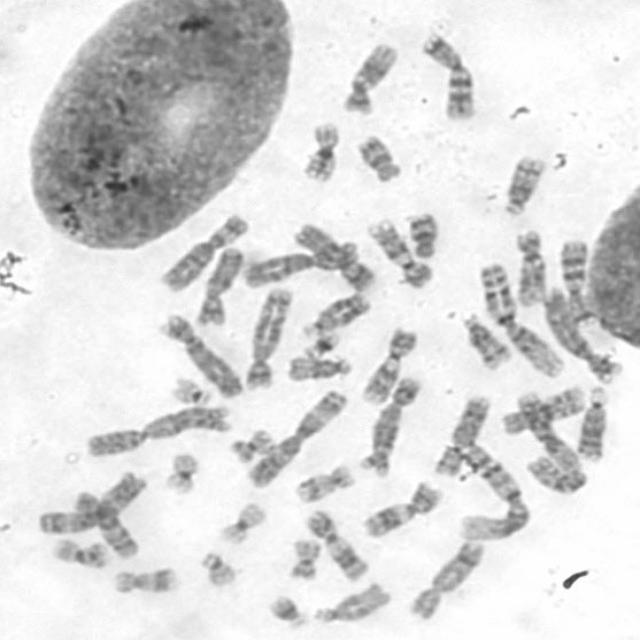A1: (476, 259, 566, 379), (451, 438, 533, 542)
A2: (80, 401, 234, 458), (512, 393, 586, 494)
A3: (242, 386, 350, 490), (35, 468, 147, 537)
B4: (156, 308, 246, 401), (539, 283, 624, 380)
B5: (358, 373, 424, 476), (241, 283, 294, 392)
C10: (70, 484, 141, 561), (497, 382, 588, 437)
C11: (300, 506, 372, 583), (358, 476, 446, 539)
C12: (338, 38, 400, 116), (508, 226, 548, 310)
C6: (156, 208, 250, 293), (239, 236, 360, 288)
C7: (416, 29, 478, 122), (556, 234, 593, 328)
C8: (405, 535, 487, 623), (430, 391, 493, 477)
C9: (363, 215, 434, 289), (358, 324, 420, 406)
D13: (296, 288, 372, 338), (572, 382, 612, 463)
D14: (458, 309, 515, 371), (499, 151, 548, 217)
D15: (309, 579, 393, 626), (282, 354, 352, 382)
E16: (296, 116, 342, 185), (48, 534, 109, 570)
E17: (290, 460, 356, 506), (109, 564, 179, 596)
E18: (353, 130, 403, 185), (404, 209, 442, 260)
F19: (215, 500, 268, 546), (161, 449, 200, 495)
F20: (226, 424, 278, 464), (285, 536, 322, 582)
G21: (264, 590, 309, 630), (299, 328, 342, 360)
G22: (196, 548, 239, 588), (169, 373, 214, 406)
X: (288, 219, 378, 294), (192, 243, 246, 328)
